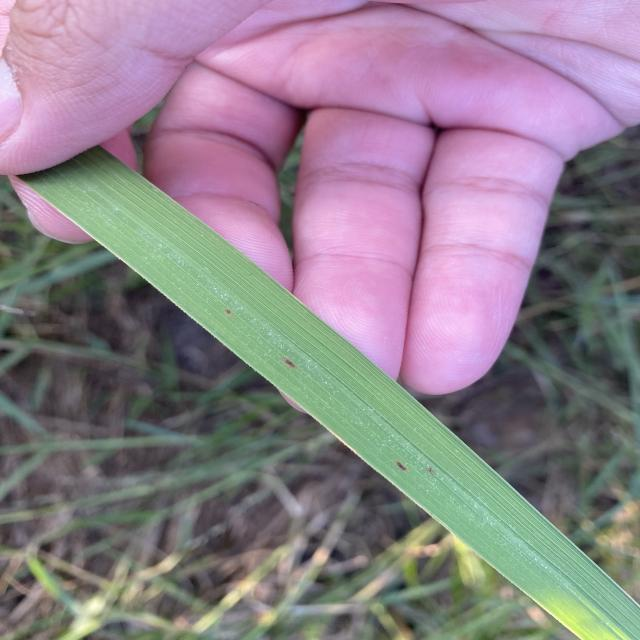Dom nau: (396, 461, 406, 470), (284, 359, 295, 367), (226, 310, 231, 314)
